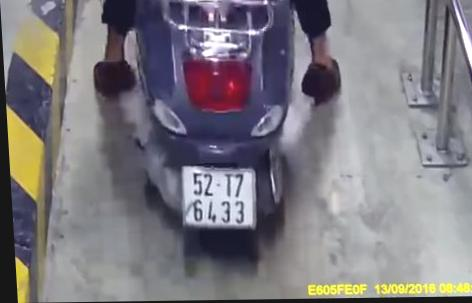License_Plate: (176, 164, 265, 231)
